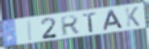2: (40, 16, 58, 40)
A: (102, 9, 124, 32)
I: (27, 19, 34, 42)
K: (124, 6, 142, 28)
R: (61, 14, 80, 37)
T: (82, 11, 98, 33)
